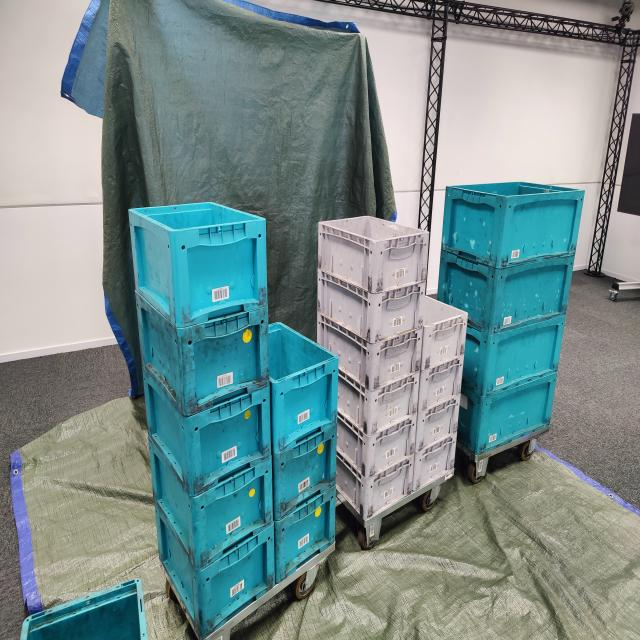Box8G: (318, 213, 431, 293), (317, 313, 424, 394), (319, 270, 426, 344), (336, 412, 419, 482), (336, 373, 425, 437), (335, 452, 417, 521), (422, 297, 469, 371), (418, 353, 464, 415), (416, 399, 461, 456), (414, 437, 460, 492)
BoxB4: (436, 247, 580, 338), (441, 181, 585, 270), (453, 311, 586, 404), (457, 372, 572, 465)
BoxB8: (128, 288, 271, 420), (126, 202, 271, 331), (138, 364, 274, 501), (147, 437, 276, 570), (154, 502, 276, 618), (268, 318, 346, 457), (273, 425, 348, 522), (276, 482, 338, 590)
